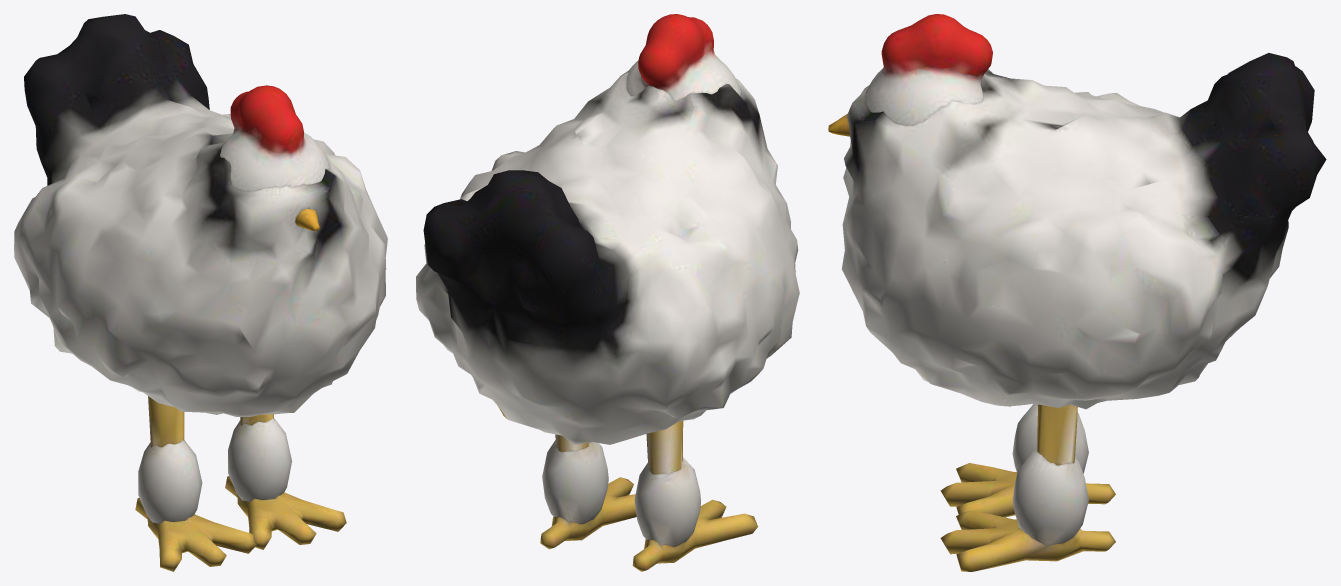
The model's file is animal_brahma_chicken.glb.
3 renders of one model, left to right at view 1: azimuth 30°, elevation 25°; view 2: azimuth 150°, elevation 25°; view 3: azimuth 270°, elevation 25°, orthographic. The views are drawn at different scales.
Visible parts, largest first — view 1: animal_brahma_chicken, leg0, head, leg1; view 2: animal_brahma_chicken, leg0, leg1, head; view 3: animal_brahma_chicken, leg1, head, leg0.
Part boxes in pixels (box(x1,y1,x2,y2)): animal_brahma_chicken: box(14, 14, 387, 416); leg0: box(135, 396, 256, 571); head: box(220, 85, 330, 231); leg1: box(225, 414, 346, 549); animal_brahma_chicken: box(416, 71, 799, 444); leg0: box(632, 420, 757, 571); leg1: box(540, 434, 636, 549); head: box(626, 14, 740, 101); animal_brahma_chicken: box(842, 53, 1326, 409); leg1: box(940, 404, 1115, 571); head: box(828, 14, 992, 136); leg0: box(940, 404, 1115, 517).
Bounding box in the file's own units: 0.2017 × 0.3066 × 0.2663.
Materials: 1 (1 with a texture image).
